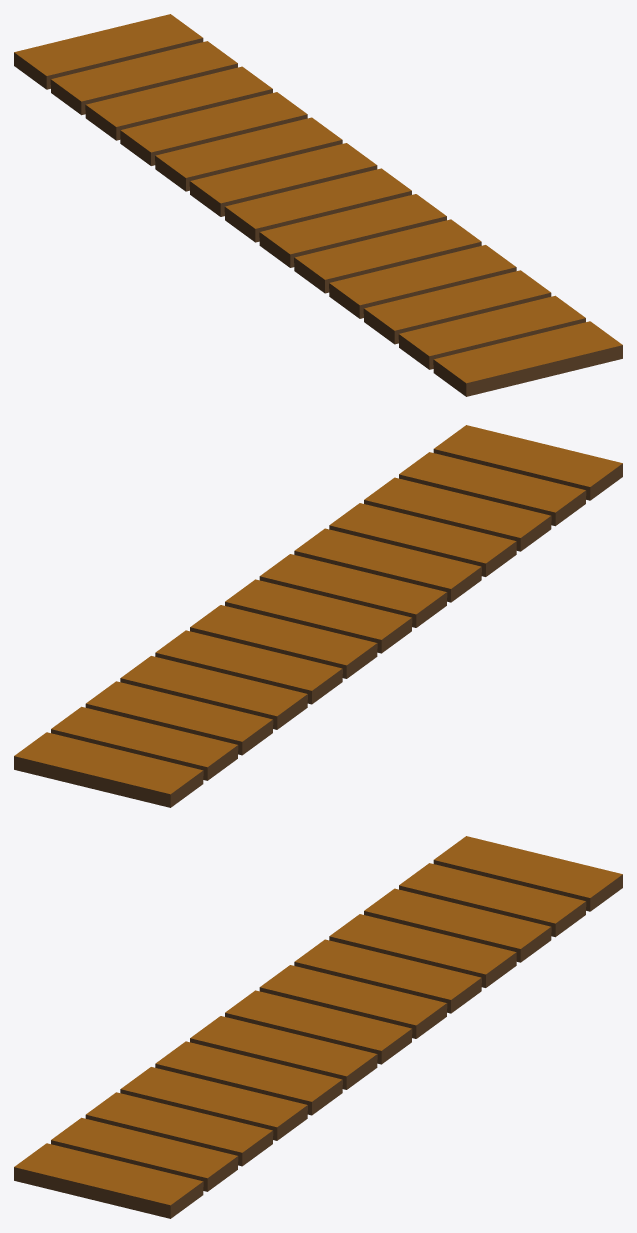
File: Pul.fbx
3 views of the same model, one above another, from view 1: azimuth 30°, elevation 25°; view 2: azimuth 150°, elevation 25°; view 3: azimuth 330°, elevation 25° (orthographic).
Visible parts, largest first — view 1: Pul; view 2: Pul; view 3: Pul.
Part boxes in pixels (x1,y1,x2,y2): Pul: (14, 14, 622, 396); Pul: (14, 425, 622, 807); Pul: (14, 836, 622, 1218).
Bounding box in the file's own units: 60 × 5 × 300.
2 materials, 2 textured.
